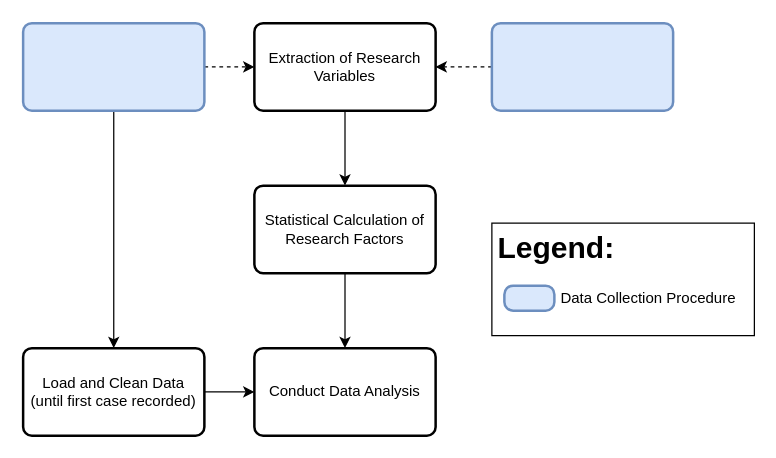
Some shapes in this 776 by 458 pixel diagram are drawn without their labels. The shapes that lost their labels are listed below. From the top down, each one's centre as x and y in pixels, then its label:
At point 113,66: "Extract historical COVID-19 data (CSV format)".
At point 582,66: "Public reports".
